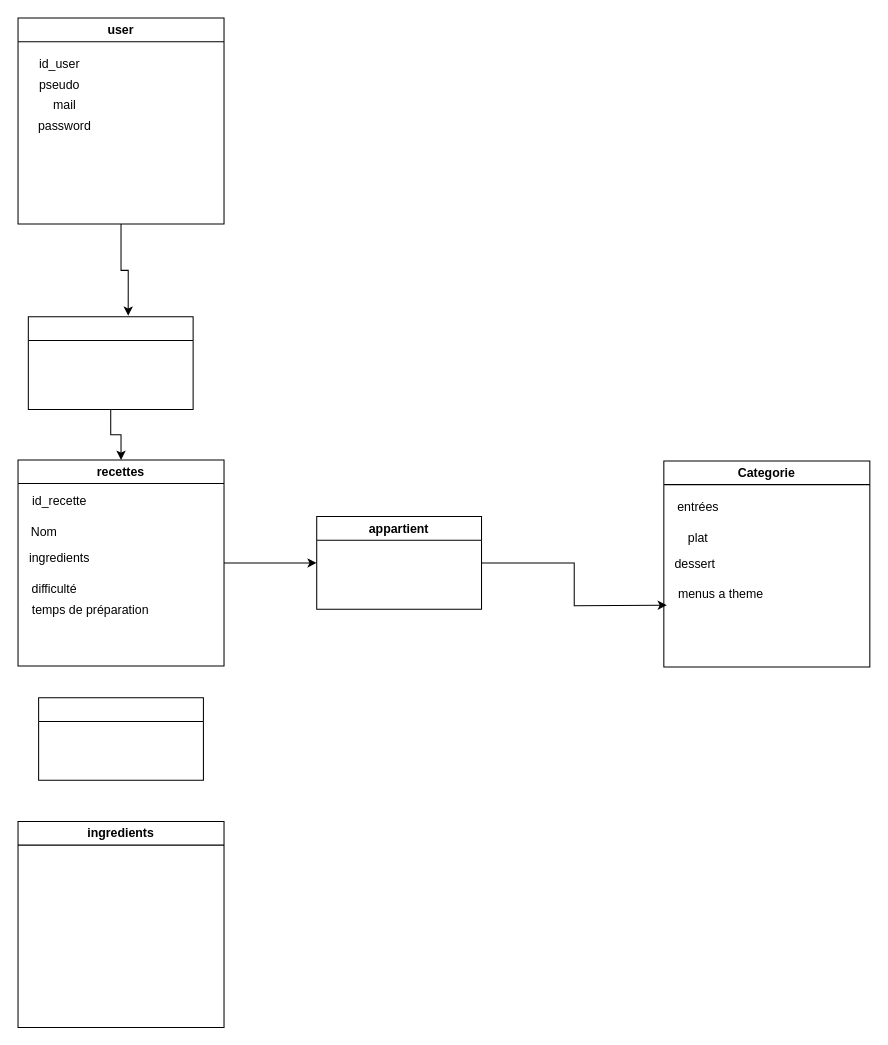
Some shapes in this 888 by 1045 pixel diagram are drawn without their labels. The box of each missing label's shape, as (x1, y1, x2, y2) in pixels:
crée: (27, 316, 193, 409)
est composé de: (38, 697, 203, 780)
